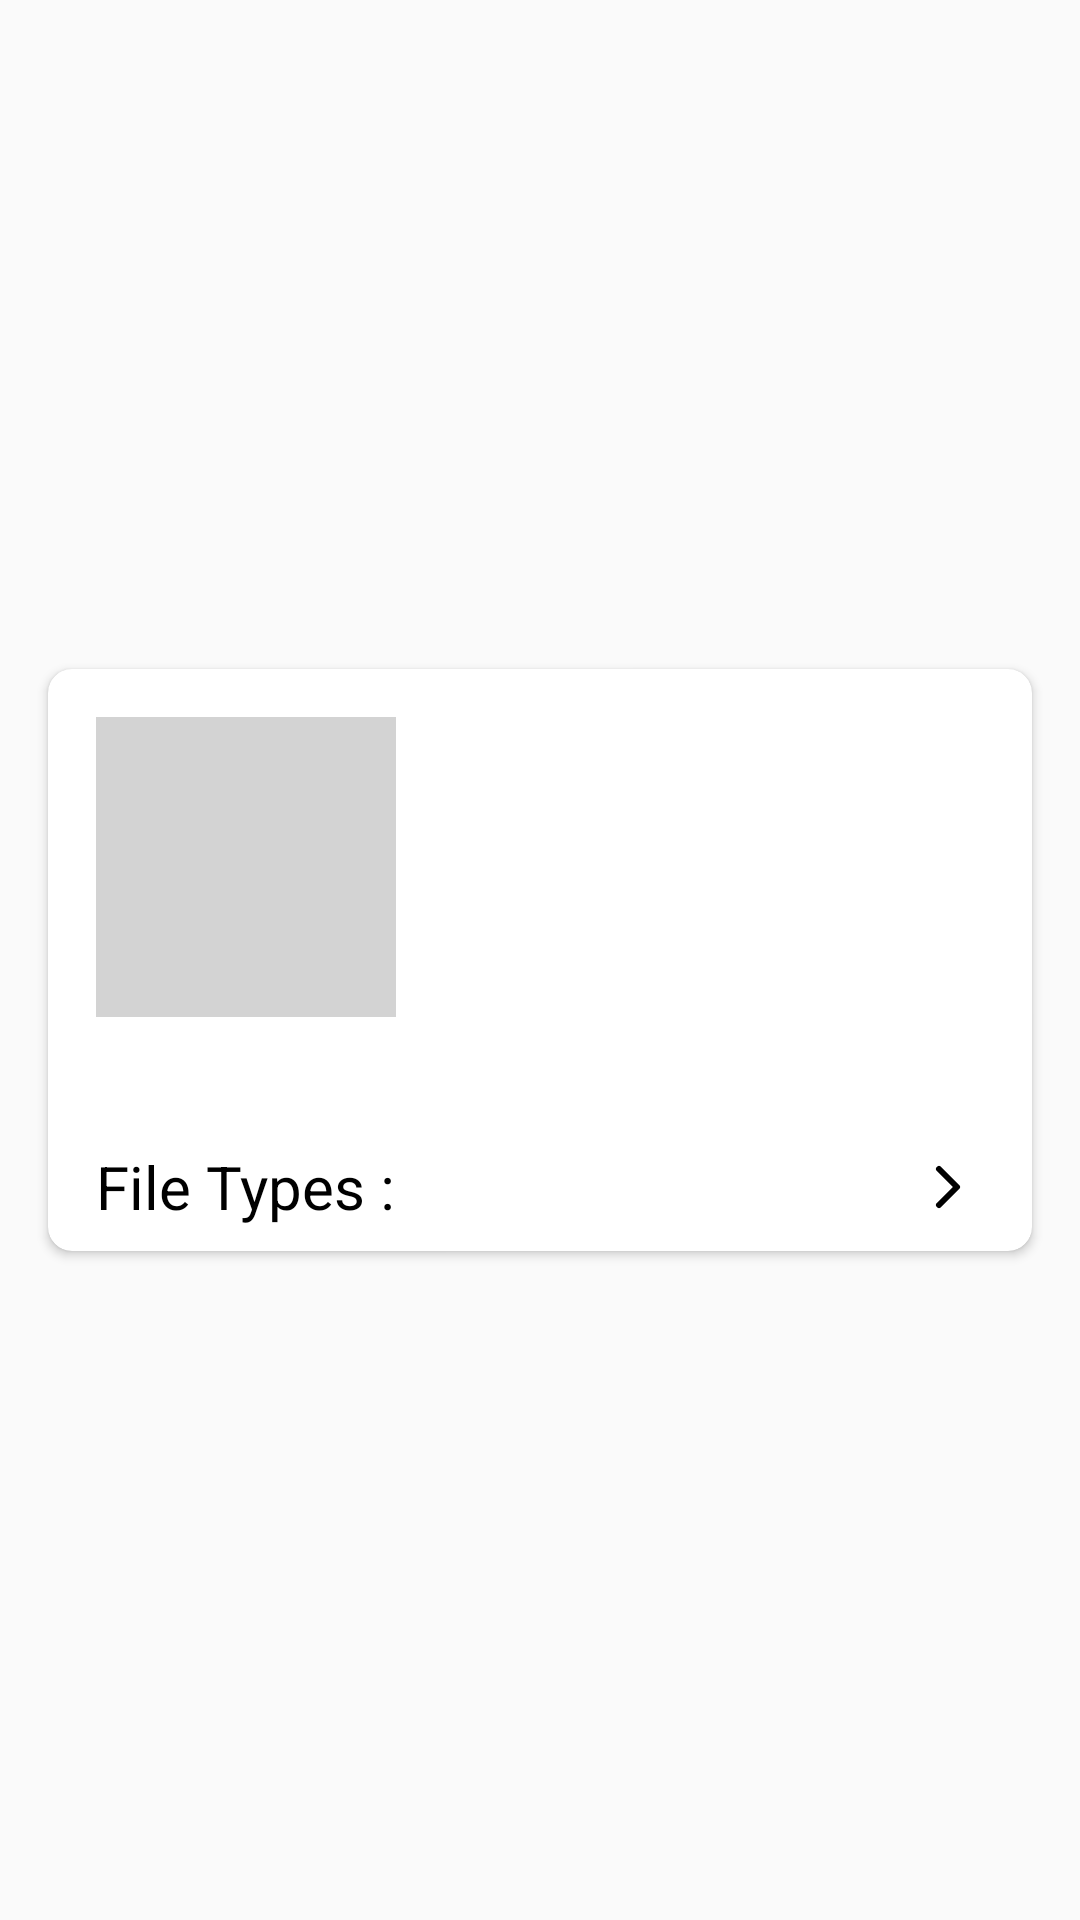

Screen size 1080px×1920px. Icon name, then its center in pixels as (x=x, y=y):
chevron right: (x=948, y=1187)
